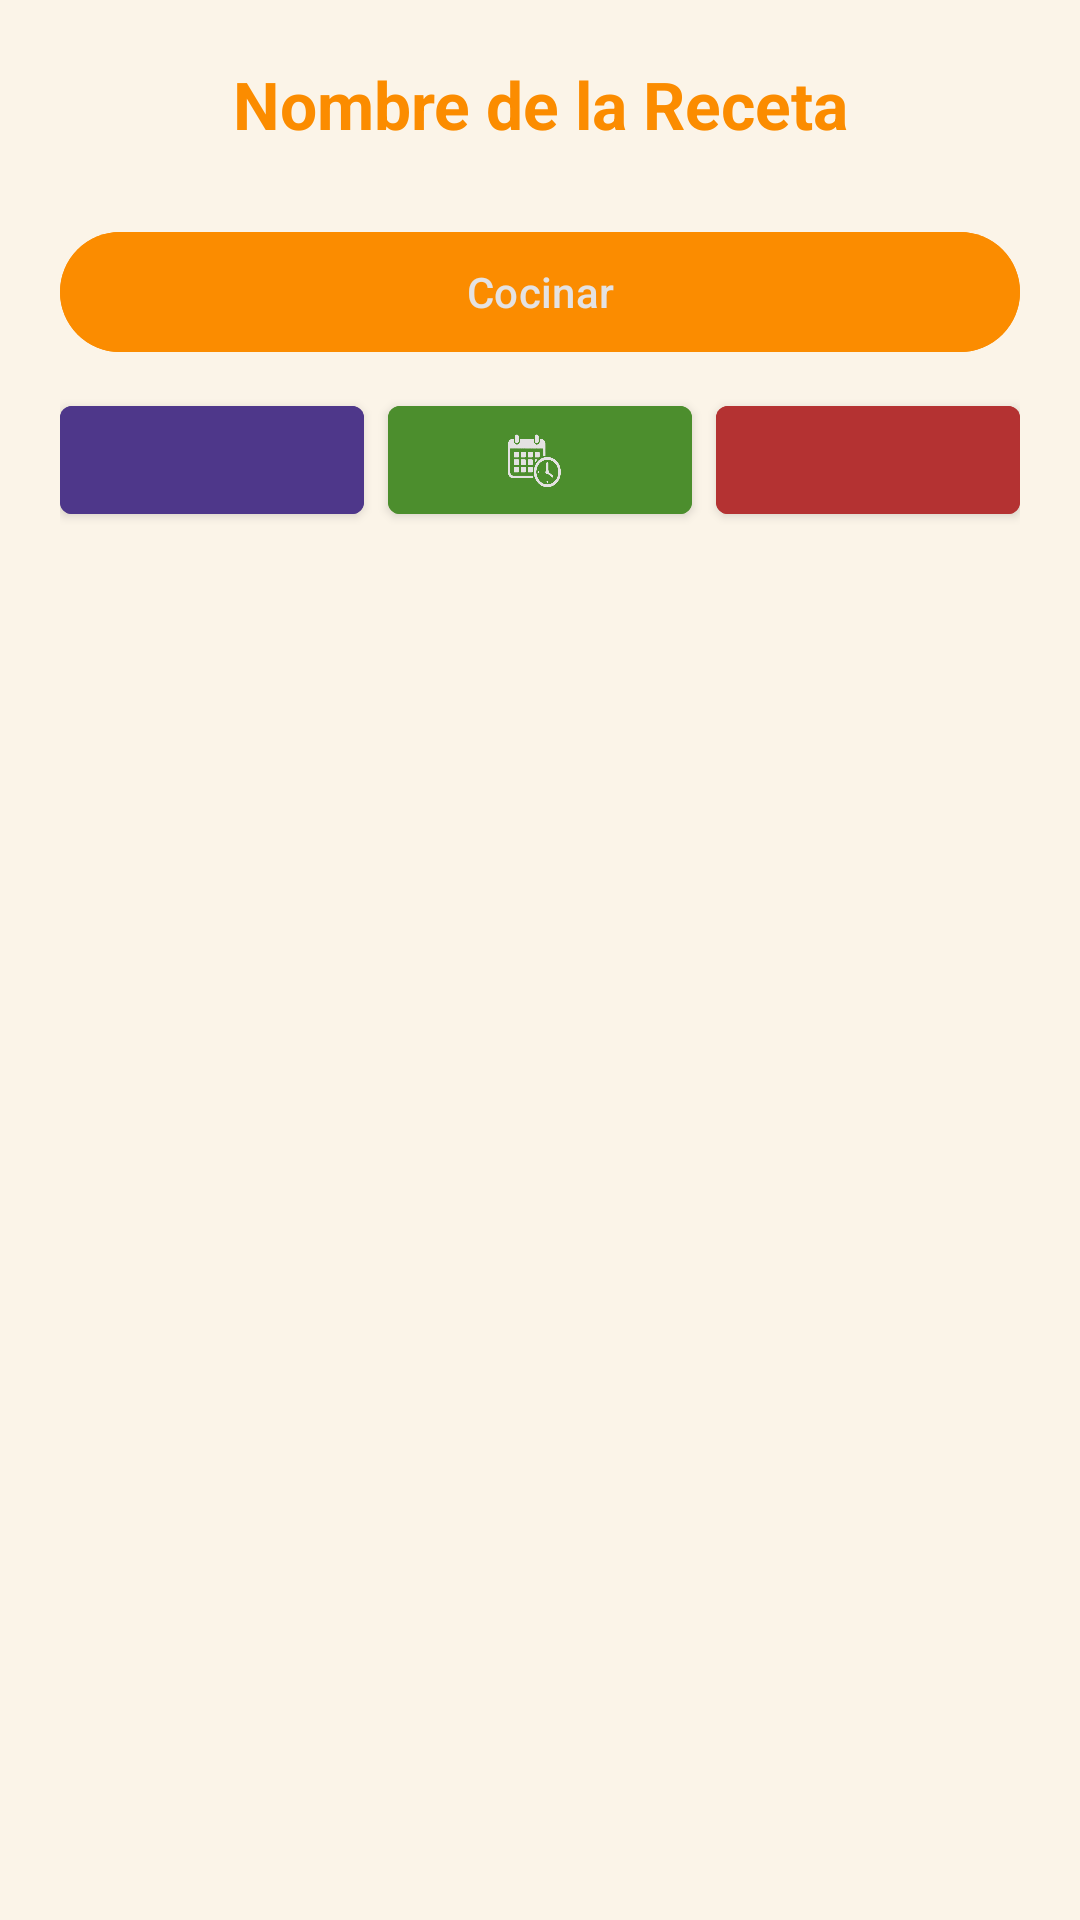

Point at icon controls on the screen. Image size 1080px x 1920px, points as [x,y].
Cambiar Fecha: [540,460]
